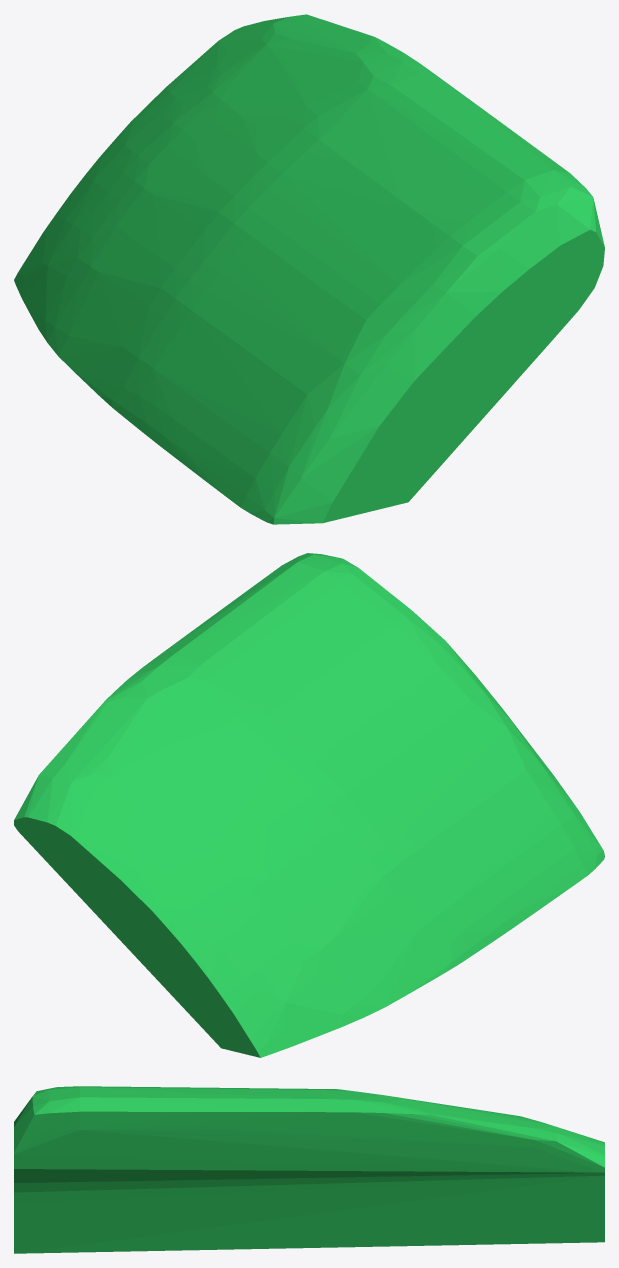
Rendered from left-shoulder-pitch-0_part_36.obj.
3 views of the same model, one above another, from view 1: azimuth 30°, elevation 25°; view 2: azimuth 150°, elevation 25°; view 3: azimuth 270°, elevation 25° (orthographic). The views are drawn at different scales.
Size of the model in its own units: 0.0231 by 0.0174 by 0.0395.
